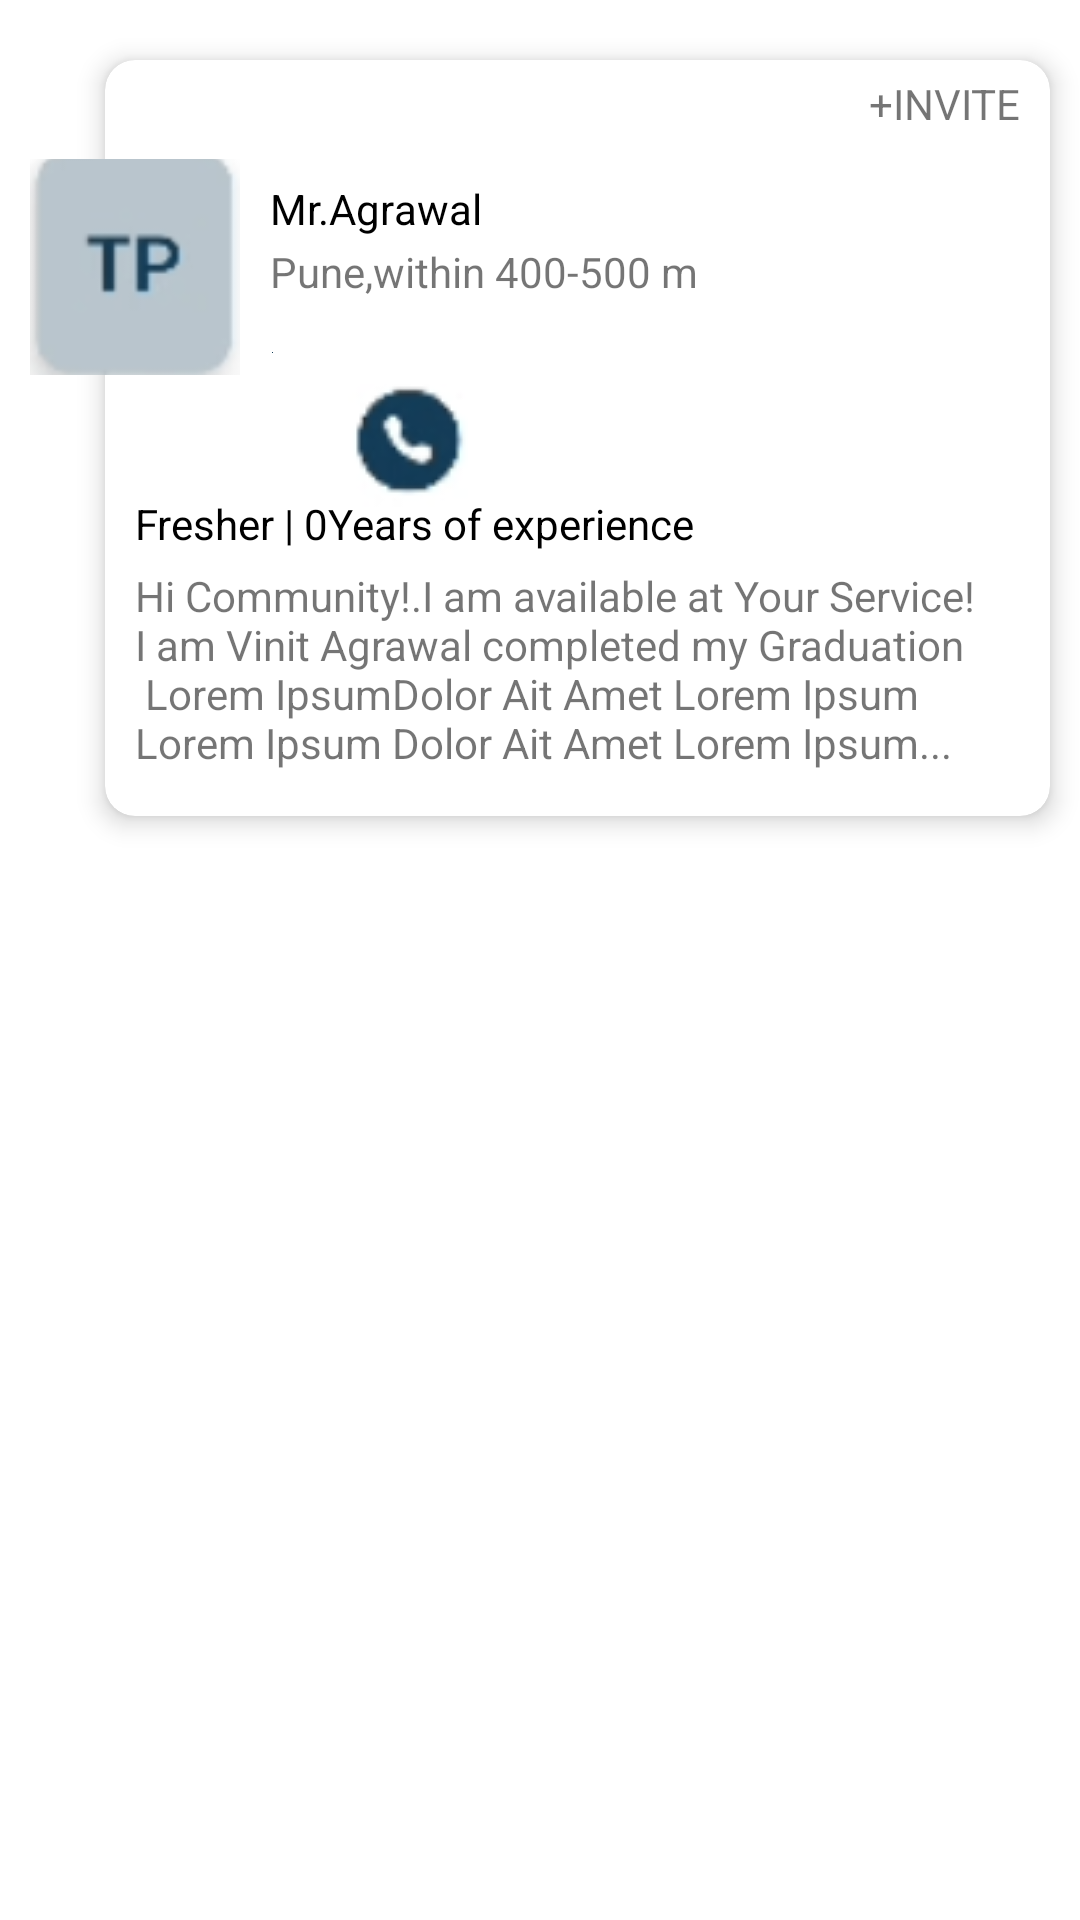

Point at icon controls on the screen. Image size 1080px×1920px, points as (x=x, y=y).
call: (x=409, y=440)
